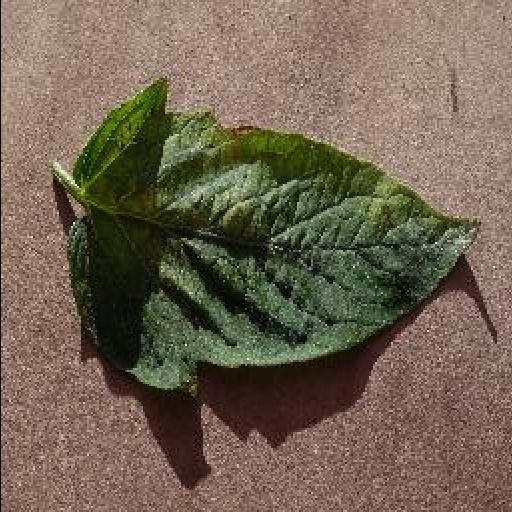disease_tomato: (64, 76, 482, 398)
